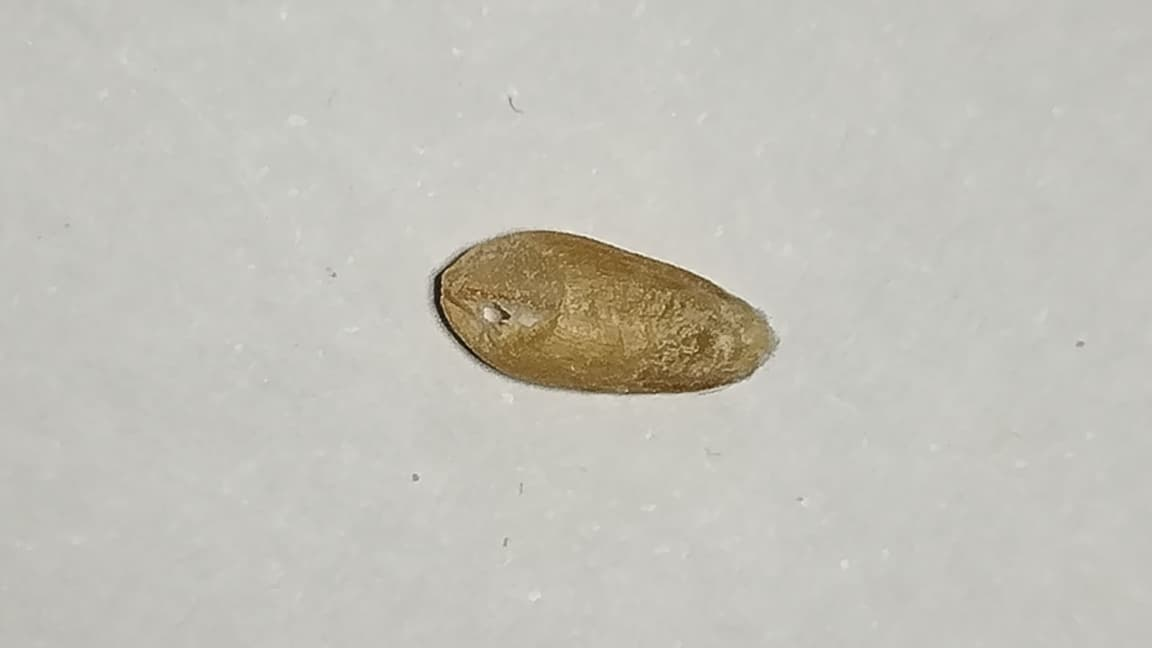damage: (426, 229, 778, 394)
insectdamage: (439, 237, 577, 360)
shriveledseed: (609, 269, 790, 389)
